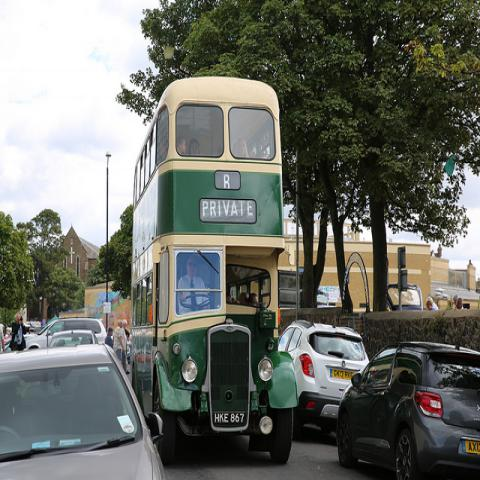bus: (132, 76, 296, 471)
car: (0, 341, 169, 477), (336, 344, 479, 475), (276, 320, 368, 436), (23, 312, 107, 350)
